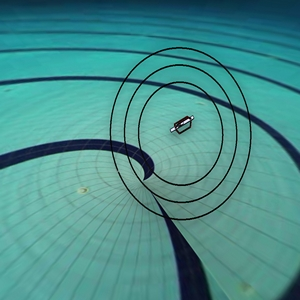circle: (99, 39, 260, 233)
submarine: (163, 108, 205, 147)
